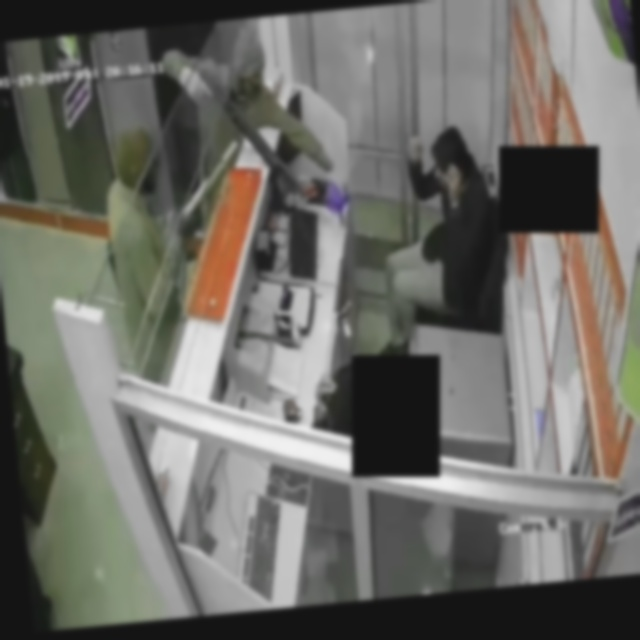gun: (195, 54, 303, 208), (167, 139, 245, 232)
